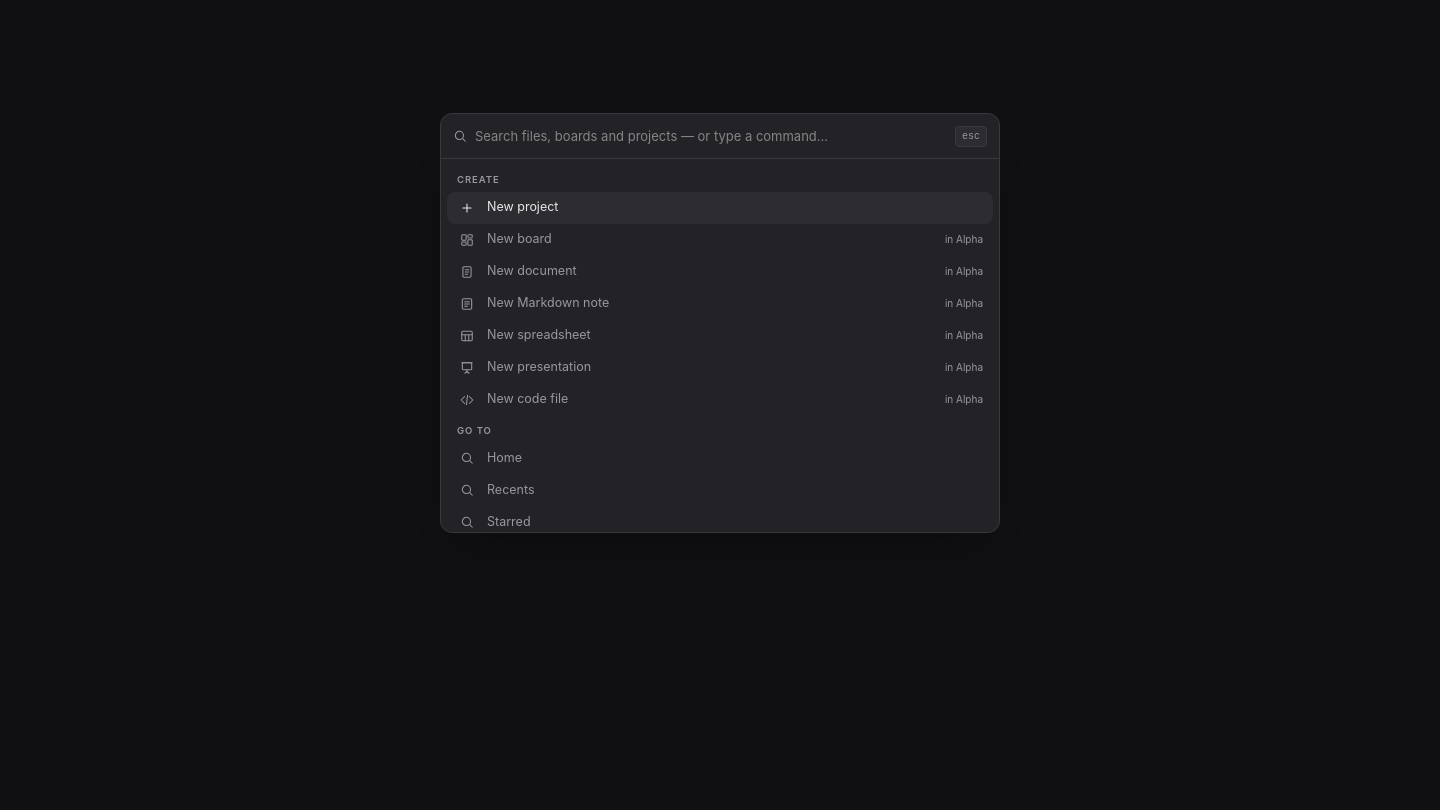
search is global › finds files in every project, not only the one that happens to be open
Type "budget" into the field at (711, 136), box [475,114,947,158]
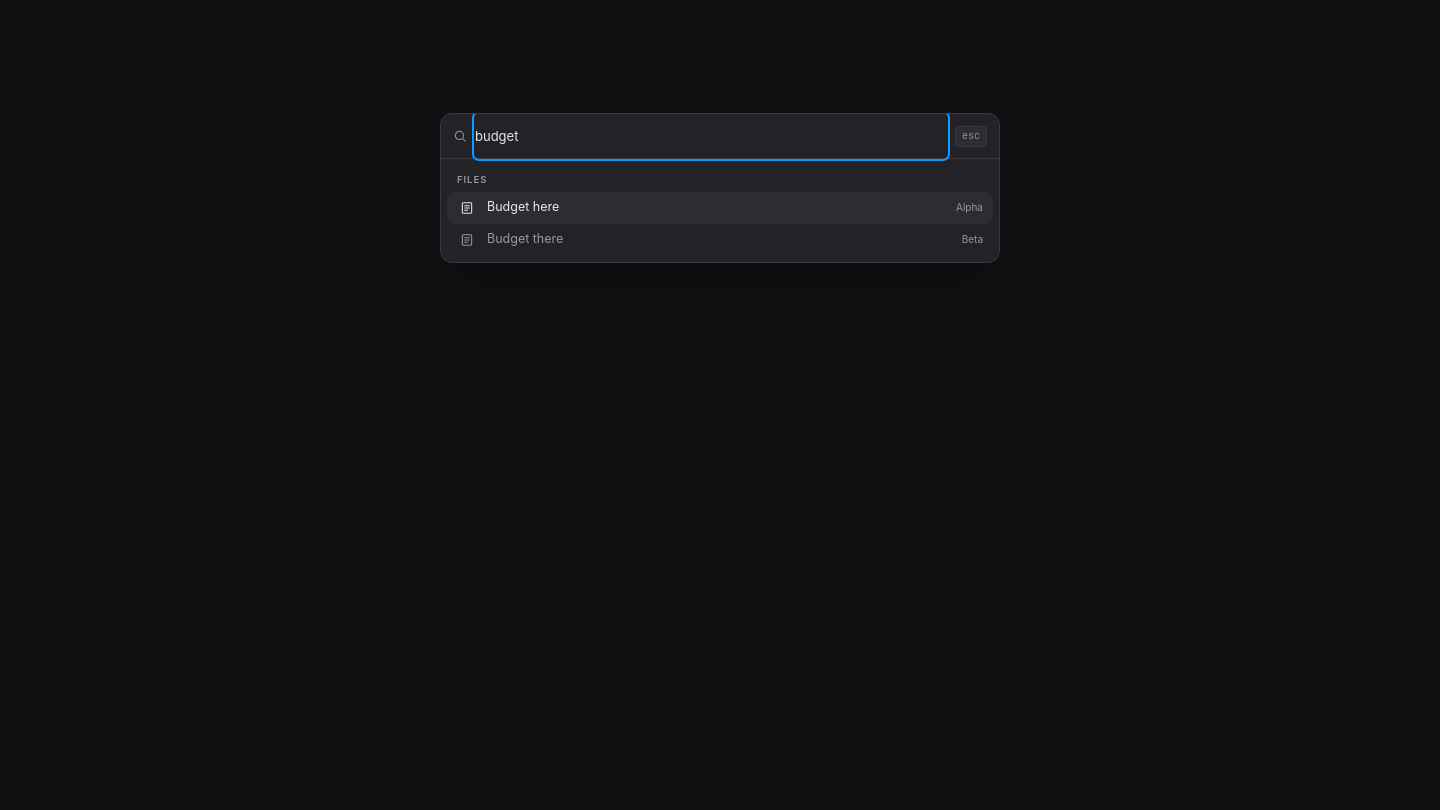
Expected: the text "Budget here" is shown, [487,199,559,214]
Expected: the text "Budget there" is shown, [487,231,563,246]
